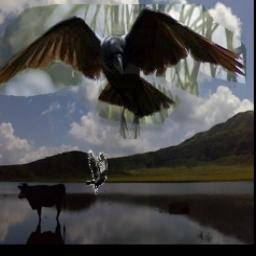Crow: (0, 5, 246, 140), (86, 150, 108, 195)
